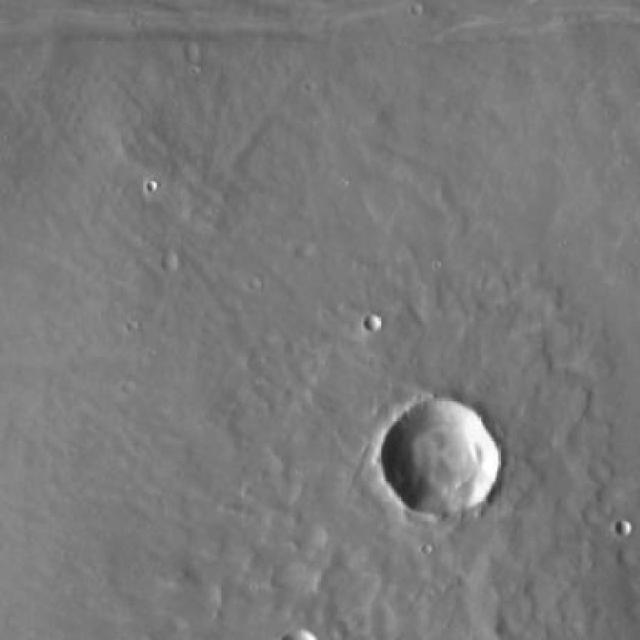crater: (380, 402, 495, 518), (612, 518, 630, 538), (365, 312, 383, 330), (184, 37, 202, 54), (162, 252, 178, 268)
